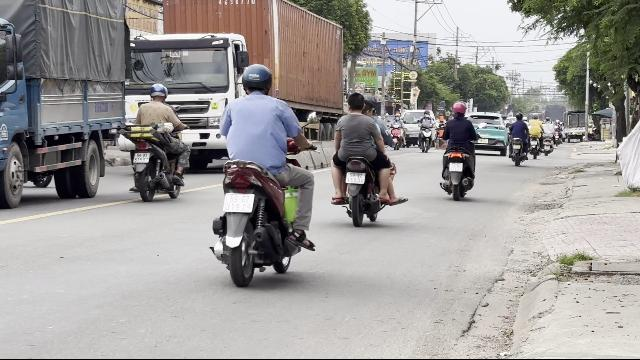helmet: (239, 63, 273, 95), (148, 83, 166, 101), (362, 92, 376, 114), (451, 102, 467, 116)
licenseplate: (223, 194, 254, 212), (346, 172, 366, 184), (133, 153, 149, 163), (449, 162, 463, 172)
motorcyclist: (208, 61, 318, 287), (326, 90, 404, 226), (122, 83, 186, 201), (437, 100, 479, 200)
nohelmet: (345, 92, 365, 112)
